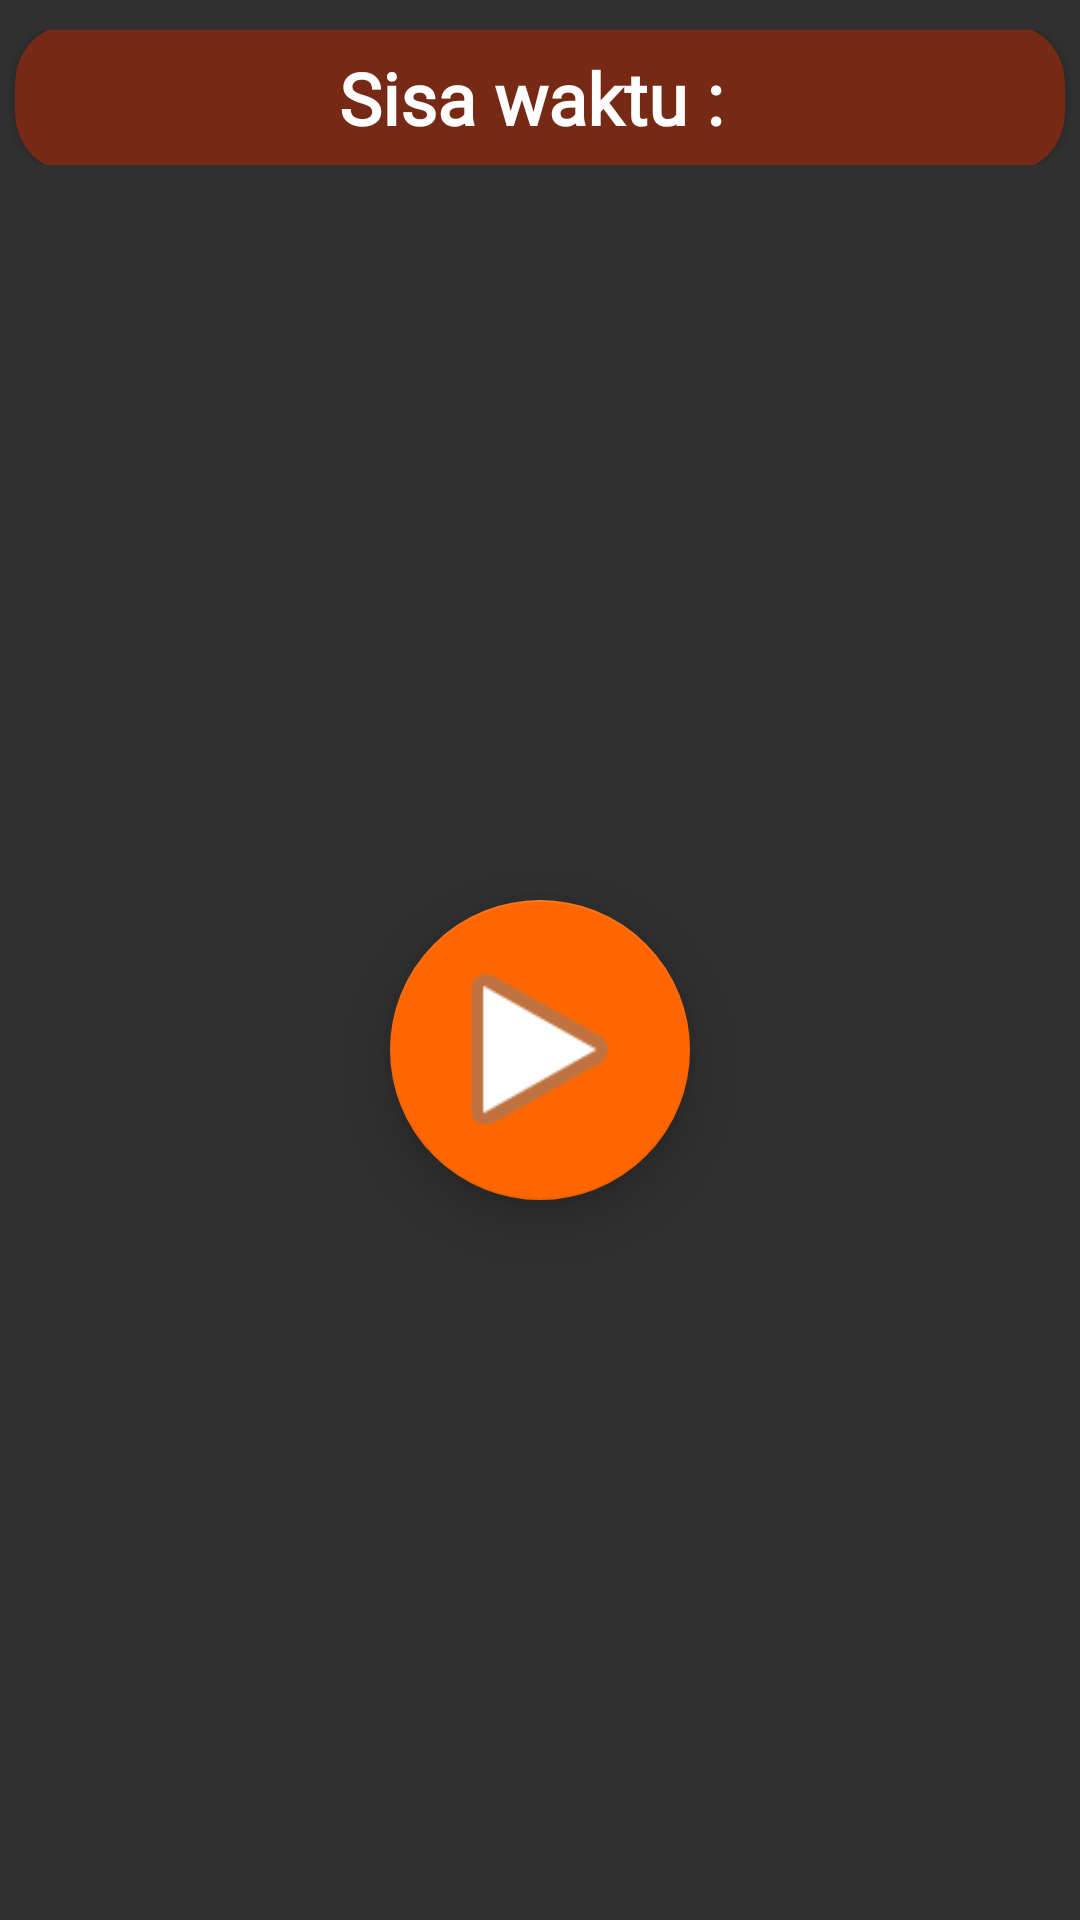

Where to tap for icons on this 1080px x 1920px app screen, as (x=x, y=y):
play: (x=540, y=1050)
